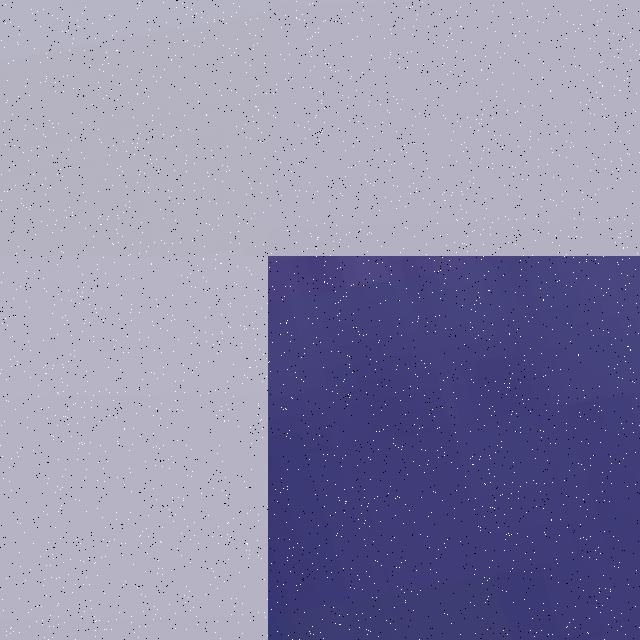drone: (268, 256, 640, 640), (0, 0, 268, 256)
